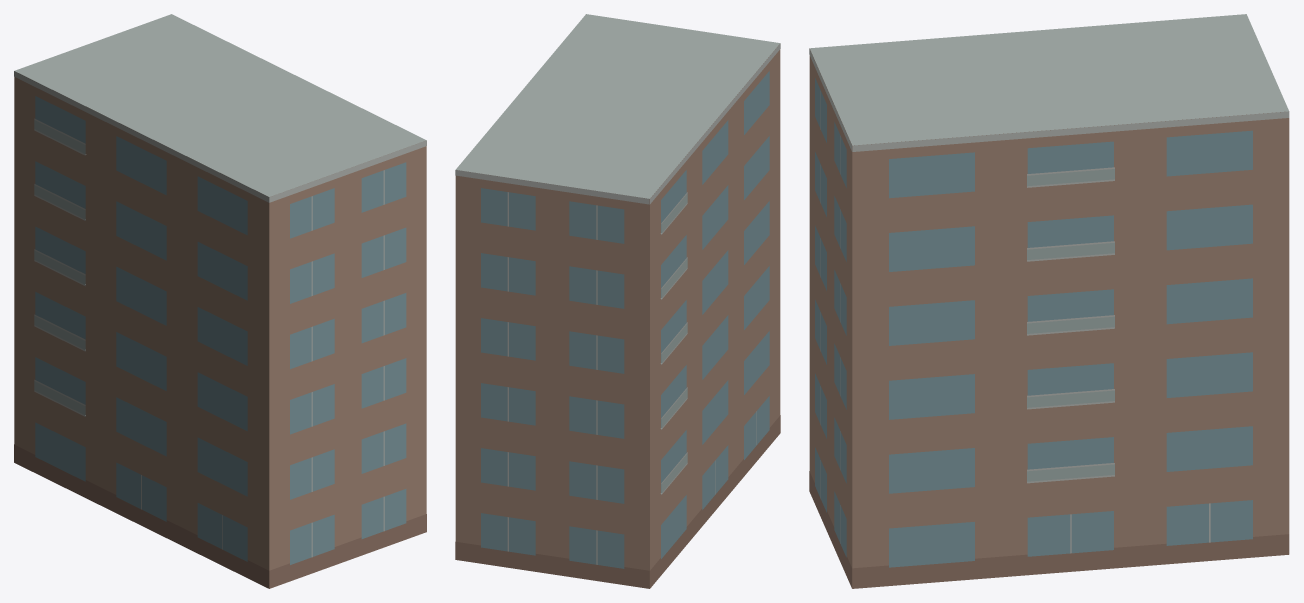
File: survey-upis-32526560.glb
3 views of the same model, side by side, from view 1: azimuth 30°, elevation 25°; view 2: azimuth 150°, elevation 25°; view 3: azimuth 270°, elevation 25° (orthographic). The views are drawn at different scales.
Parts seen in each view (by area): view 1: survey-upis-32526560.tmp; view 2: survey-upis-32526560.tmp; view 3: survey-upis-32526560.tmp.
Part boxes in pixels (<box>): survey-upis-32526560.tmp: <box>14,14,426,588</box>; survey-upis-32526560.tmp: <box>455,14,780,588</box>; survey-upis-32526560.tmp: <box>809,14,1289,588</box>.
Bounding box in the file's own units: 10.58 × 16.6 × 16.29.
